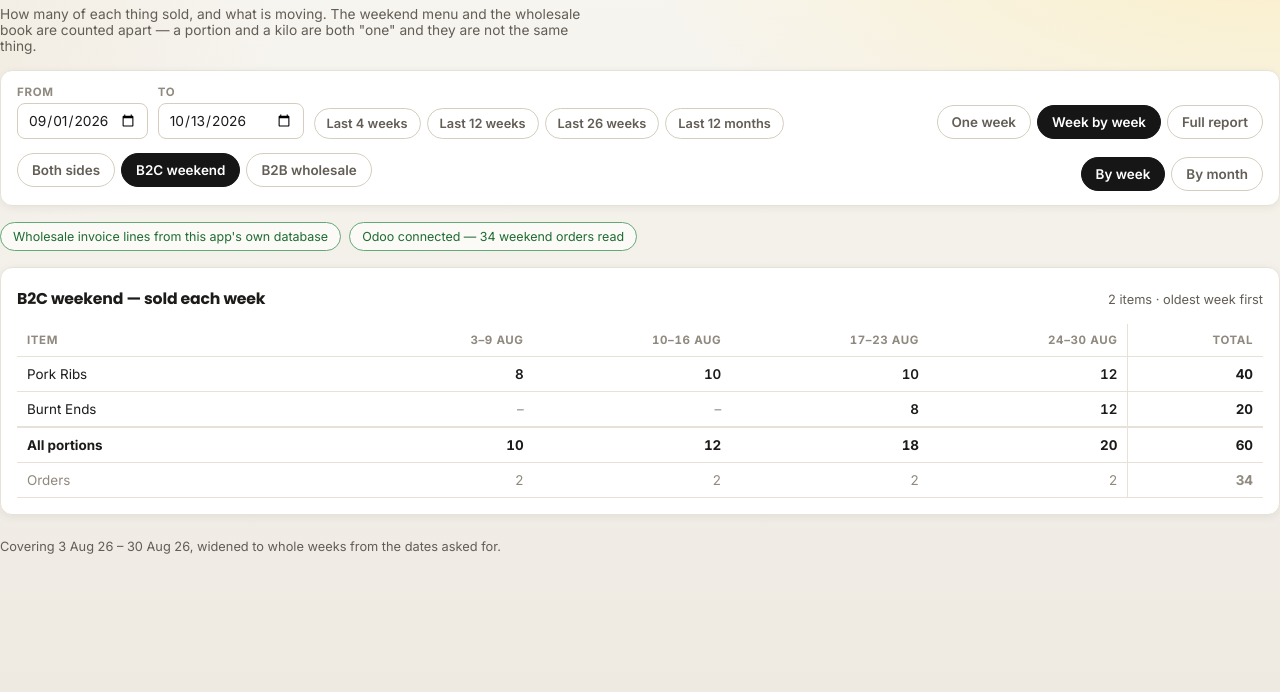
Test: counts how many of each item sold, with its share and its revenue
Click the button "Full report".
click(1215, 122)  # box [1167,105,1263,139]
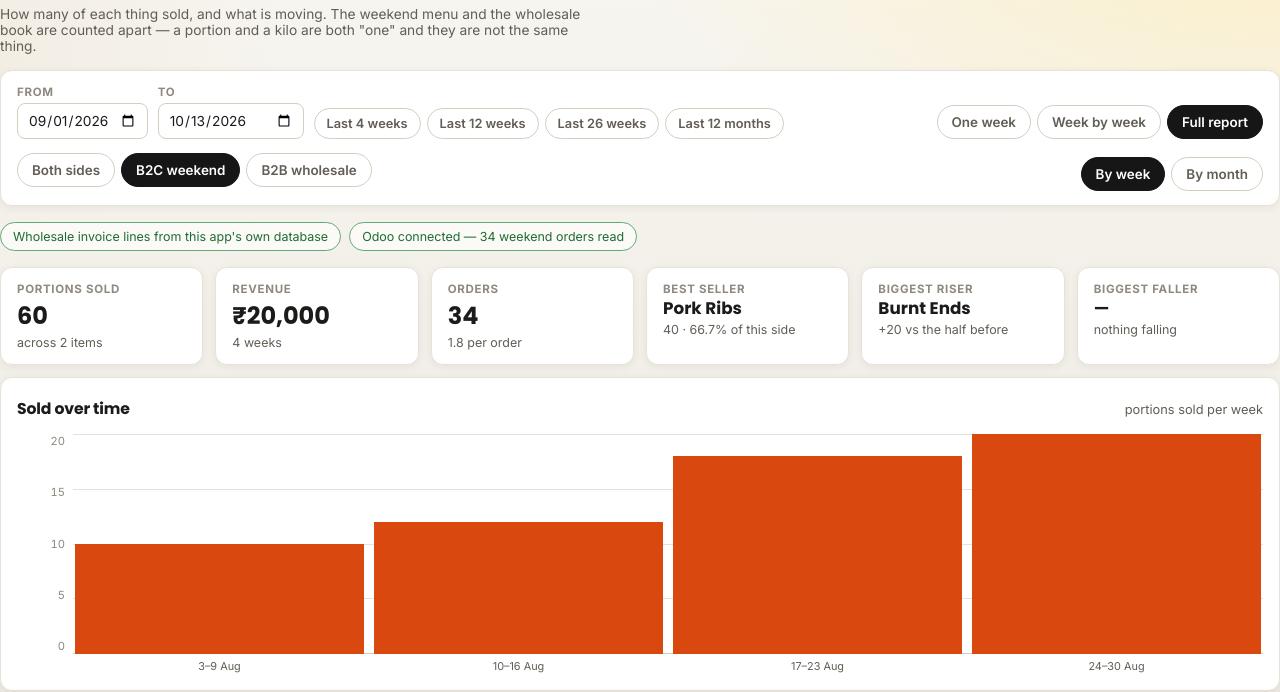
Click the button "Both sides".
click(66, 170)  # box [17,153,115,187]
(page scrolled)
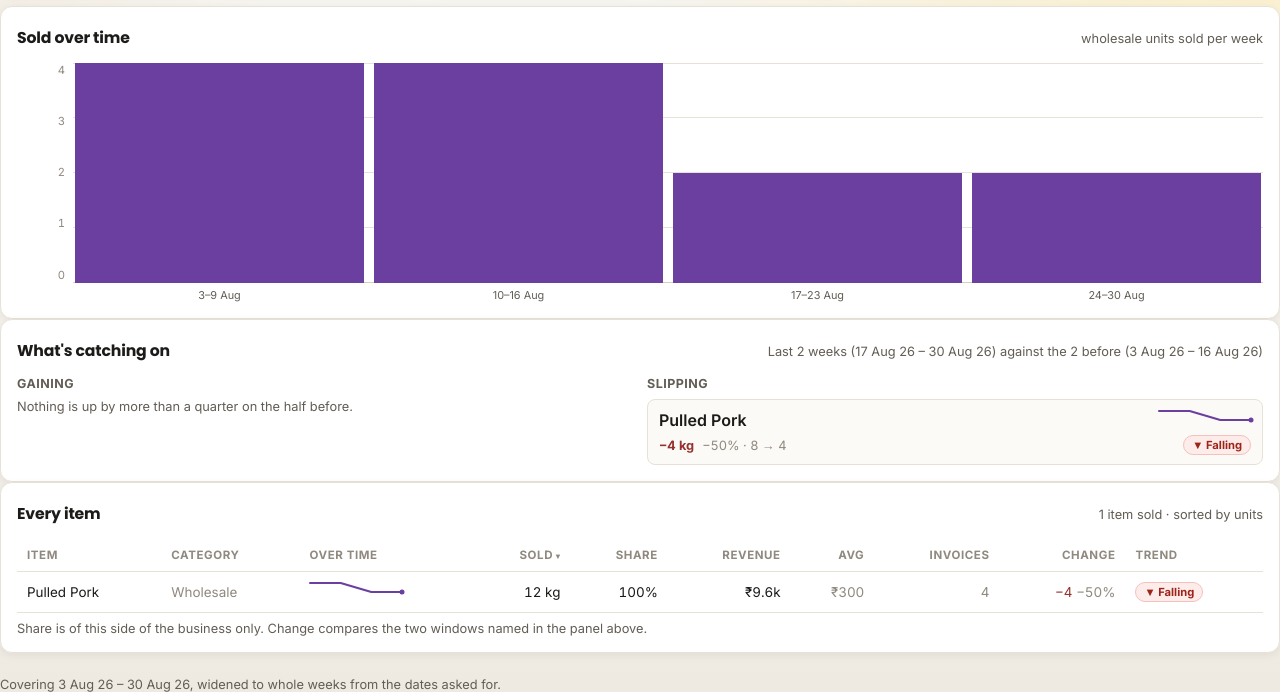
Expected: the text "12 kg" is shown, [475,572,570,613]
